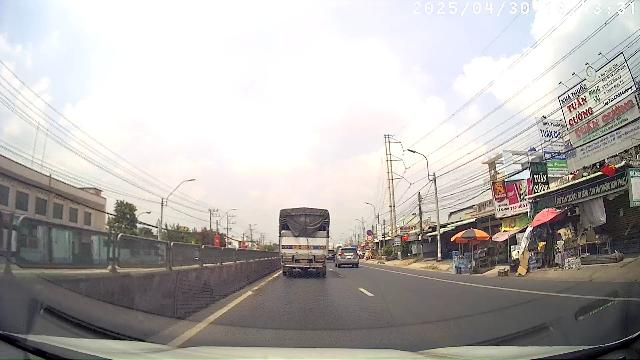125-cam-vuot: (367, 235, 373, 241)
130-cam-dung-va-do-xe: (366, 229, 372, 235)
